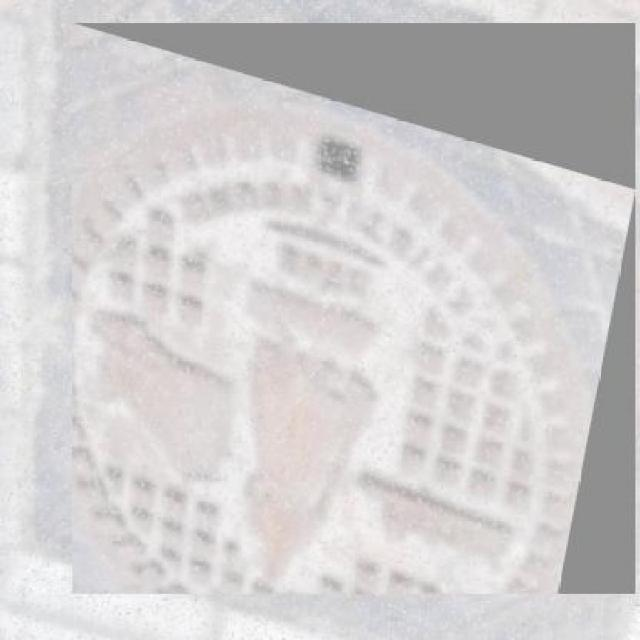Manhole: (72, 23, 636, 594)
